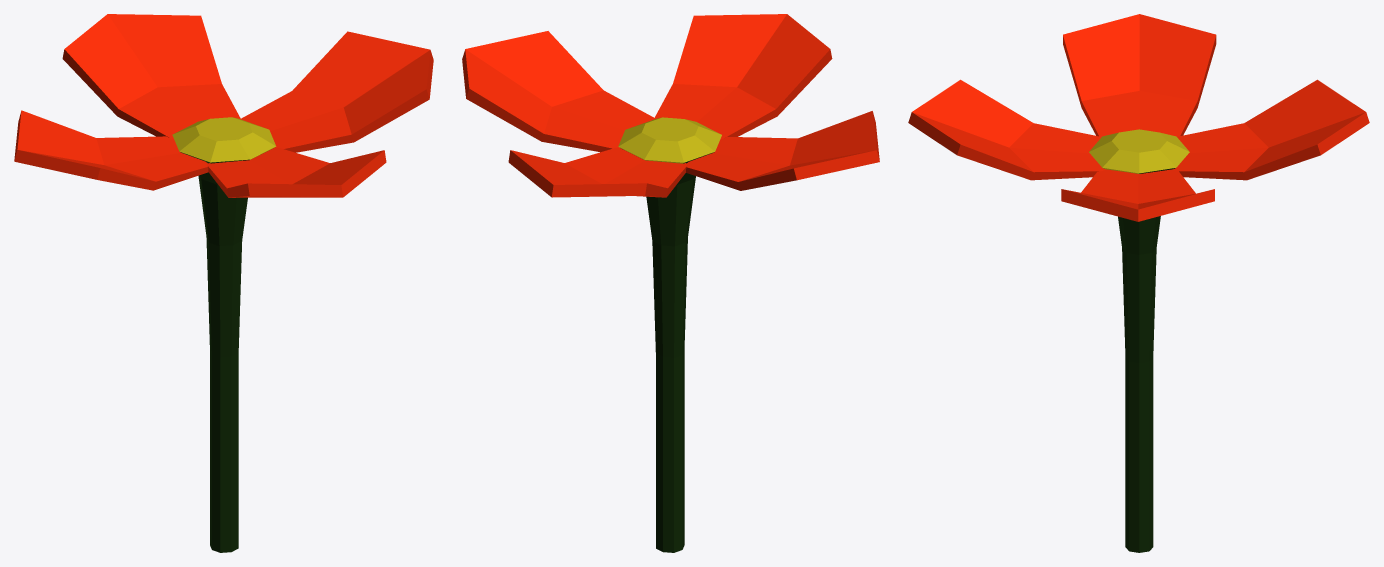
Rendered from flower4.fbx.
3 renders of one model, left to right at view 1: azimuth 30°, elevation 25°; view 2: azimuth 150°, elevation 25°; view 3: azimuth 270°, elevation 25°, orthographic. The views are drawn at different scales.
Visible parts, largest first — view 1: Plane.001, Cube.043, Cube.044, Cube.045, Cube.046; view 2: Plane.001, Cube.046, Cube.044, Cube.045, Cube.043; view 3: Cube.045, Plane.001, Cube.046, Cube.043, Cube.044.
Part boxes in pixels (x1,y1,x2,y2): Plane.001: (172, 117, 276, 552); Cube.043: (62, 14, 240, 138); Cube.044: (241, 31, 433, 152); Cube.045: (14, 110, 208, 190); Cube.046: (207, 147, 386, 197); Plane.001: (618, 117, 721, 552); Cube.046: (653, 14, 832, 138); Cube.044: (462, 31, 654, 152); Cube.045: (686, 111, 879, 190); Cube.043: (508, 147, 687, 197); Cube.045: (1063, 14, 1216, 136); Plane.001: (1089, 129, 1189, 552); Cube.046: (908, 79, 1106, 180); Cube.043: (1171, 79, 1369, 180); Cube.044: (1061, 169, 1214, 221).
Size of the model in its own units: 3343 by 3414 by 3283.
